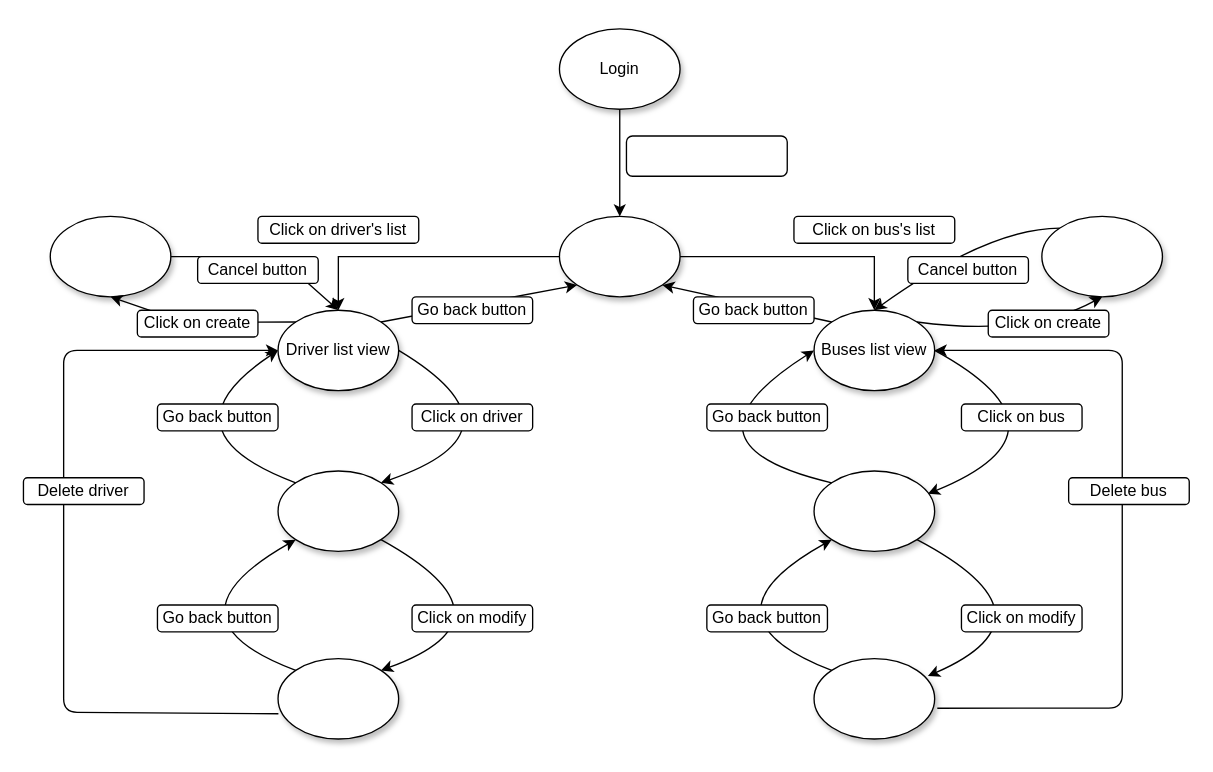
The diagram is 1213 pixels wide and 772 high, and some of its shapes have lost their labels. The shapes that lost their labels are listed below. From the top down, each one's centre as x and y in pixels, then its label:
At [706,155]: "Coordinator logged up".
At [111,258]: "Create driver".
At [620,258]: "Coordinator main view".
At [1102,258]: "Create bus".
At [339,512]: "Driver view".
At [875,512]: "Bus view".
At [339,700]: "Modify driver".
At [875,700]: "Modify bus".
